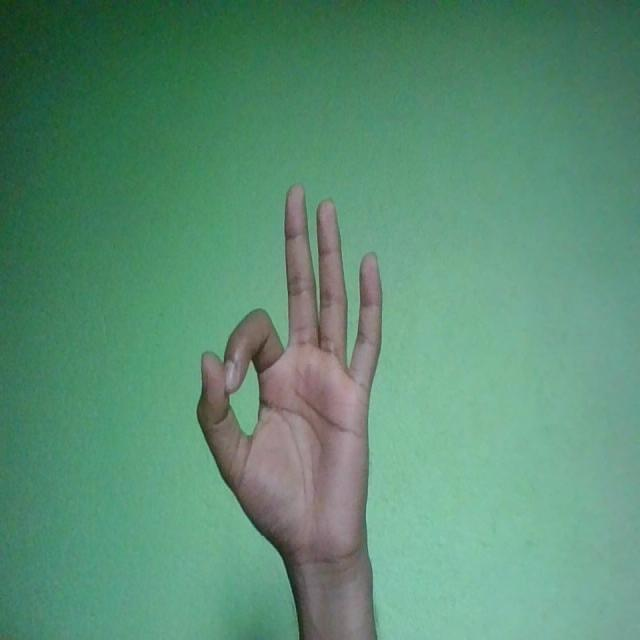Rock On: (196, 183, 384, 571)
